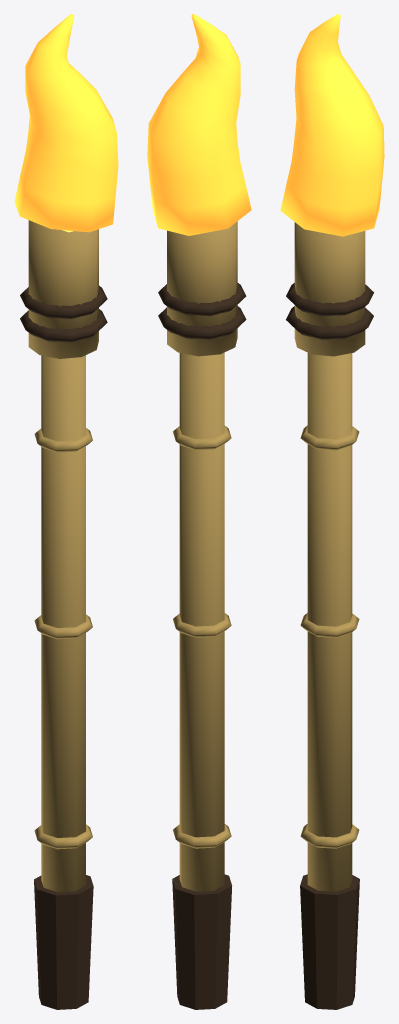
File: oncor.glb
3 renders of one model, left to right at view 1: azimuth 30°, elevation 25°; view 2: azimuth 210°, elevation 25°; view 3: azimuth 330°, elevation 25°, orthographic.
Parts seen in each view (by area): view 1: oncor_mesh; view 2: oncor_mesh; view 3: oncor_mesh.
Boxes of the visible parts, left/top/right/bottom form: oncor_mesh: left=14, top=14, right=118, bottom=1009; oncor_mesh: left=147, top=14, right=251, bottom=1009; oncor_mesh: left=280, top=14, right=384, bottom=1009.
Size of the model in its own units: 0.2101 by 2.11 by 0.2.
